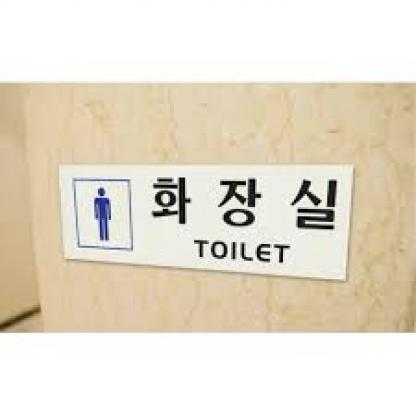toilet: (83, 184, 120, 244)
